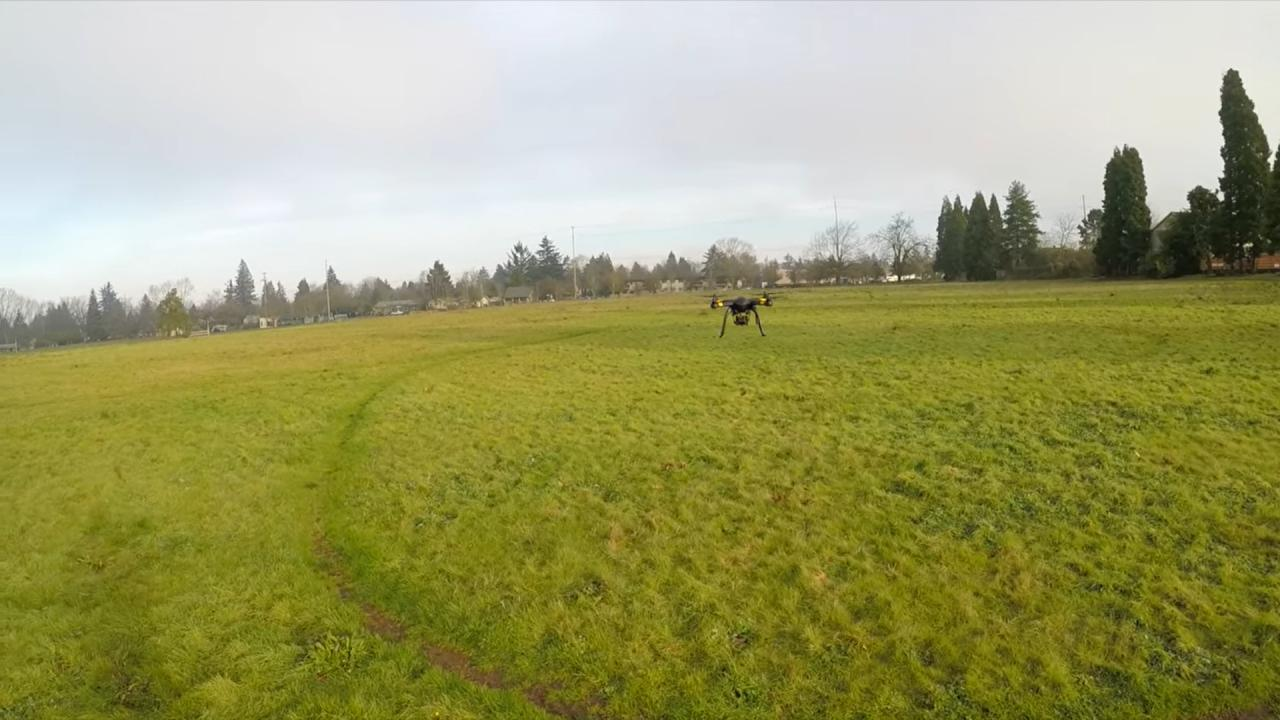Drone: (692, 283, 781, 346)
